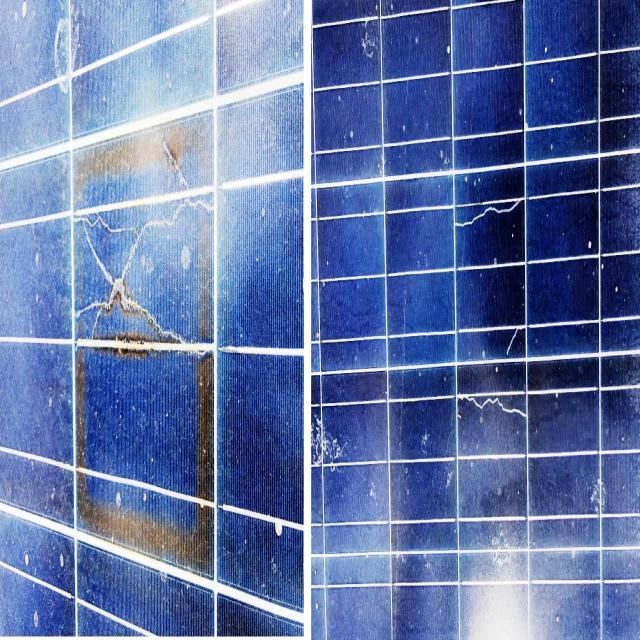faulty: (306, 0, 636, 625), (0, 6, 312, 640)
